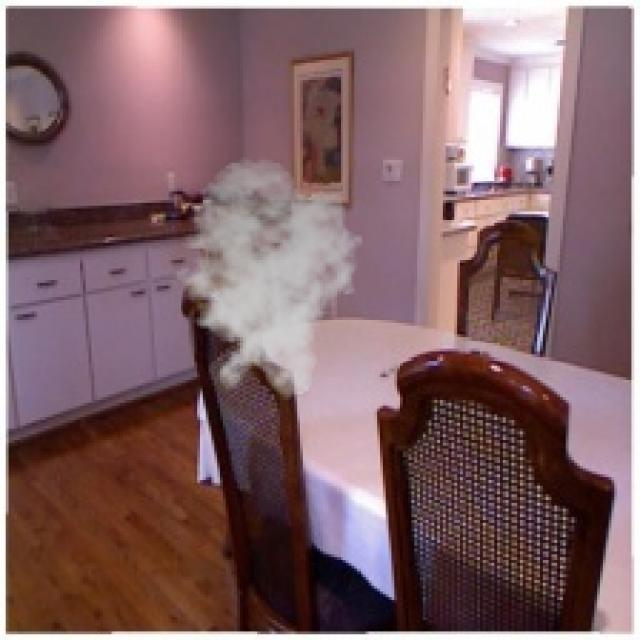Smoke: (162, 157, 368, 400)
